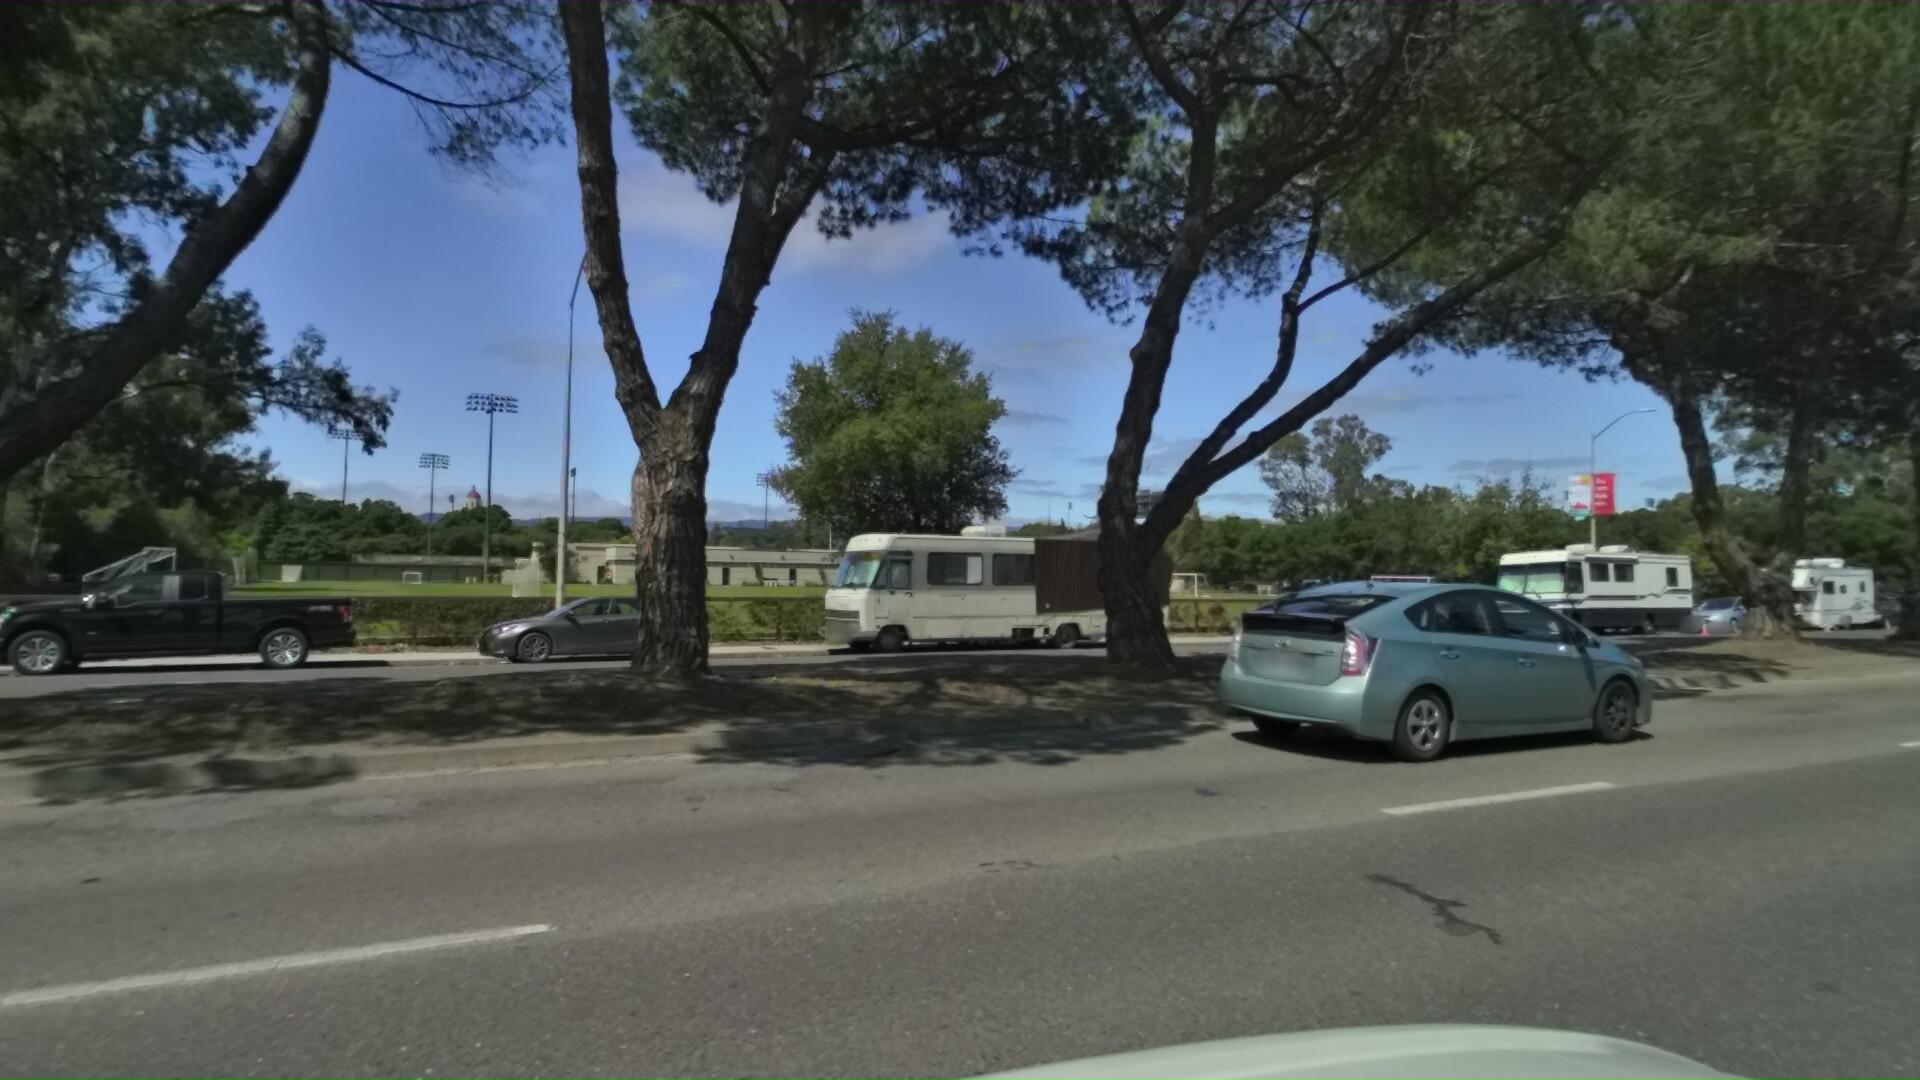car: (1203, 567, 1677, 771), (0, 564, 334, 683), (435, 585, 695, 675), (1360, 572, 1497, 640), (1215, 591, 1364, 642), (1663, 585, 1760, 626), (1822, 589, 1911, 622), (1904, 585, 1920, 621)
other_vehicle: (779, 509, 1164, 658), (1465, 529, 1684, 634), (1709, 541, 1870, 629)
